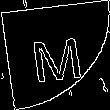M_N: (26, 27, 84, 83)
